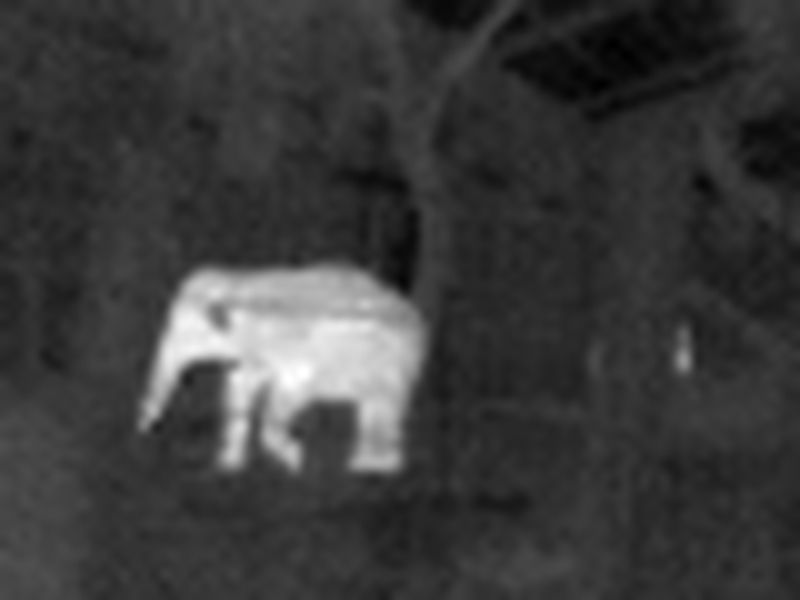elephant: (135, 249, 414, 502)
